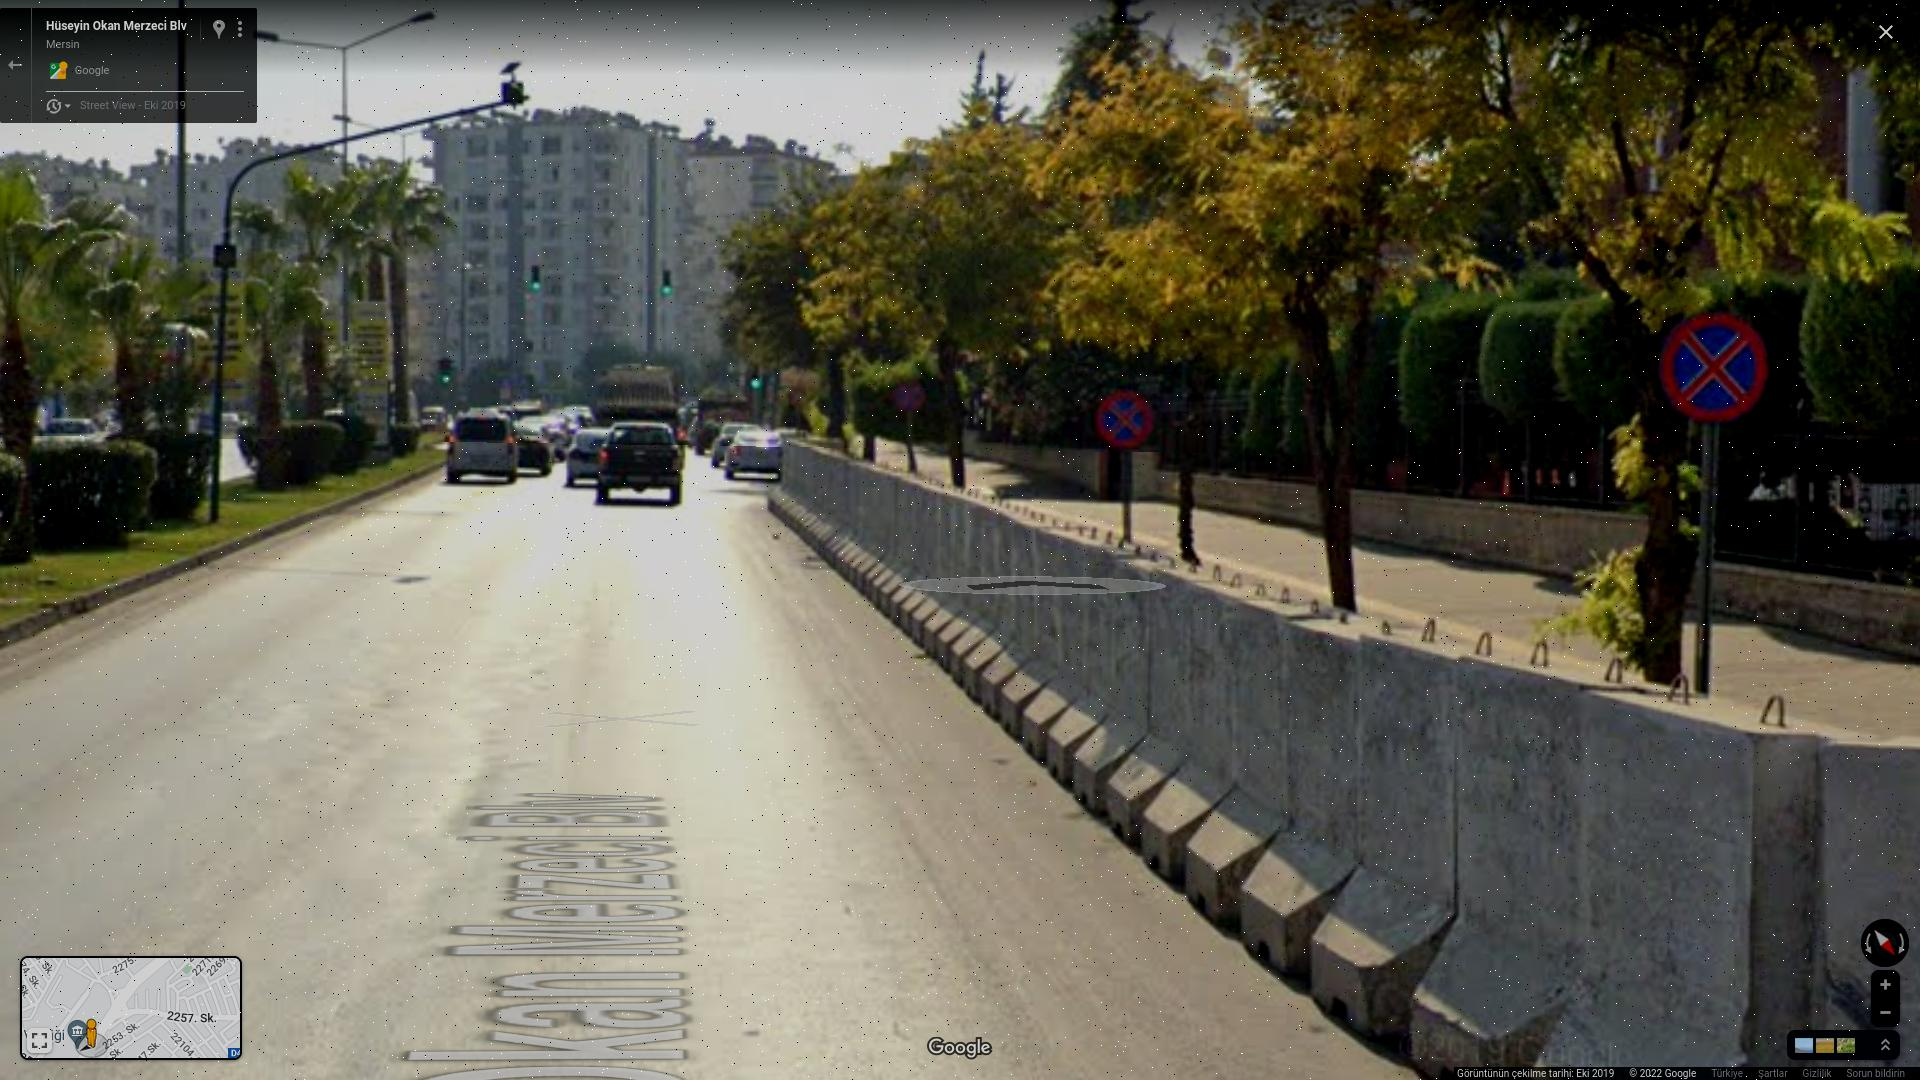greenlight: (749, 365, 765, 398), (438, 357, 452, 393), (659, 268, 675, 299), (529, 265, 543, 291)
